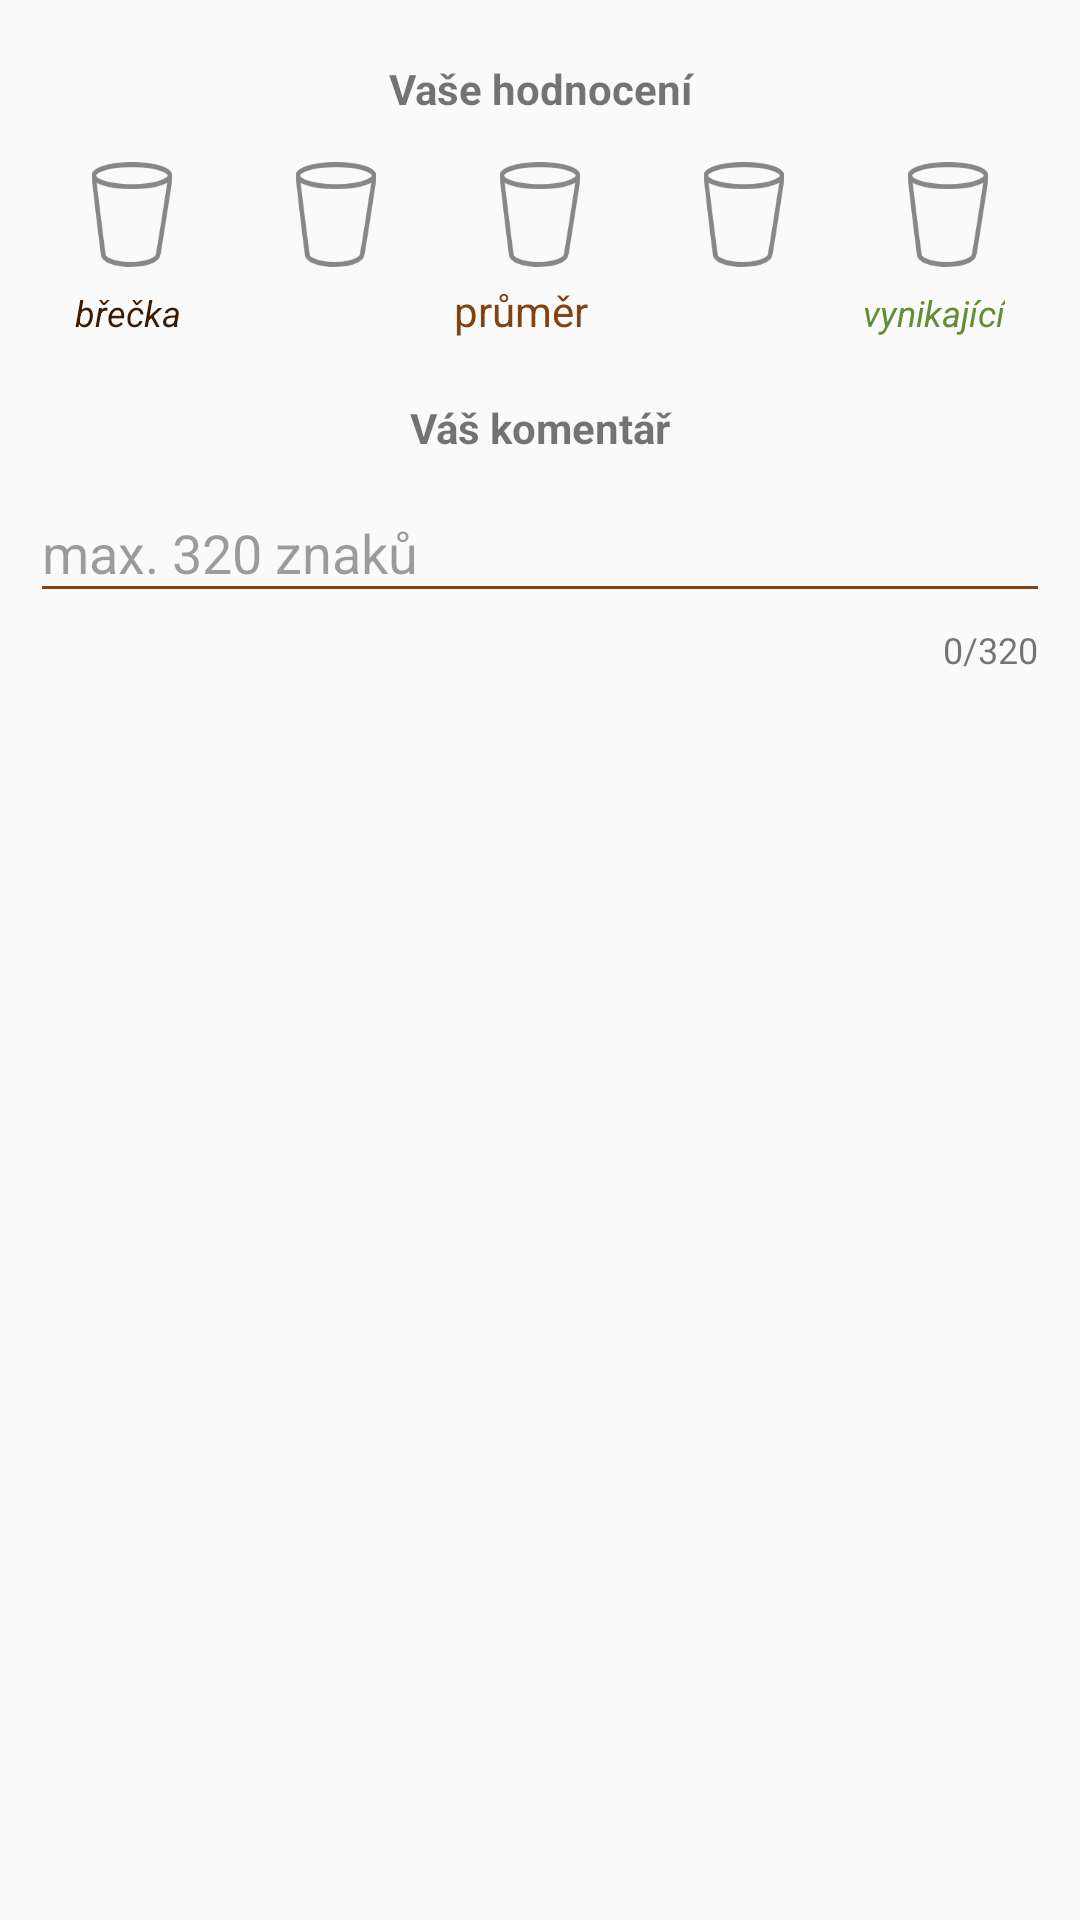

Screen size 1080x1920. Icon name, then its center in pixels as (x=x, y=y):
cup rating empty: (x=132, y=214), (x=336, y=214), (x=540, y=214), (x=744, y=214), (x=948, y=214)
